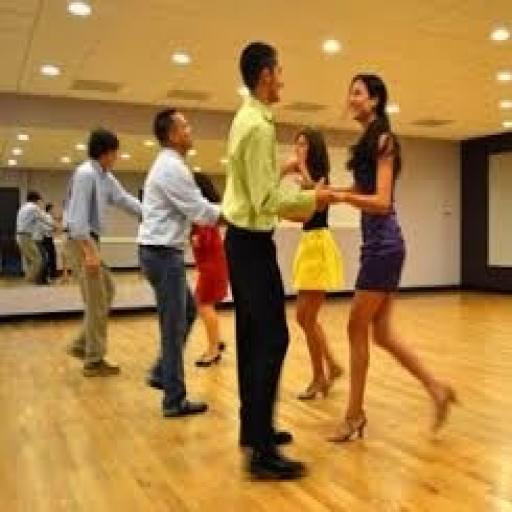dancing: (320, 70, 462, 447), (218, 38, 336, 484)
